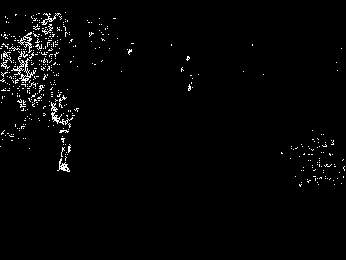person: (45, 91, 79, 177)
